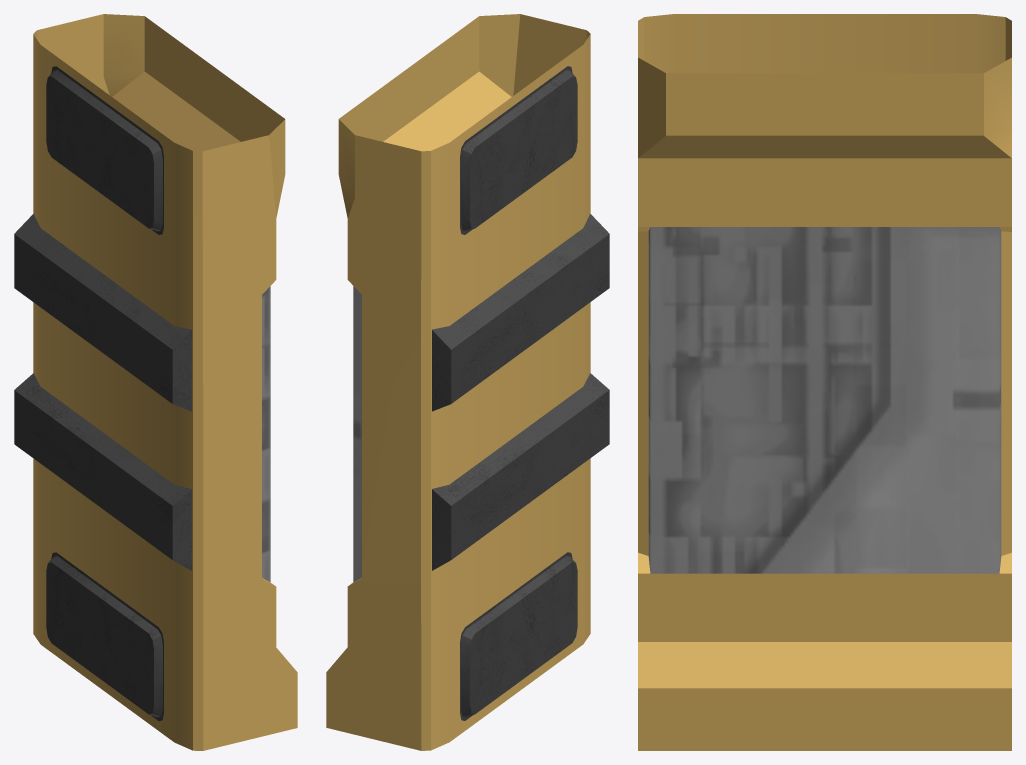
Rendered from connect_side_holder.fbx.
3 renders of one model, left to right at view 1: azimuth 30°, elevation 25°; view 2: azimuth 150°, elevation 25°; view 3: azimuth 270°, elevation 25°, orthographic. The views are drawn at different scales.
Parts seen in each view (by area): view 1: connect_side_holder; view 2: connect_side_holder; view 3: connect_side_holder.
Boxes of the visible parts, x1=… form: connect_side_holder: x1=14, y1=14, x2=297, y2=750; connect_side_holder: x1=326, y1=14, x2=609, y2=750; connect_side_holder: x1=638, y1=14, x2=1011, y2=750.
Size of the model in its own units: 84.81 by 400 by 200.
